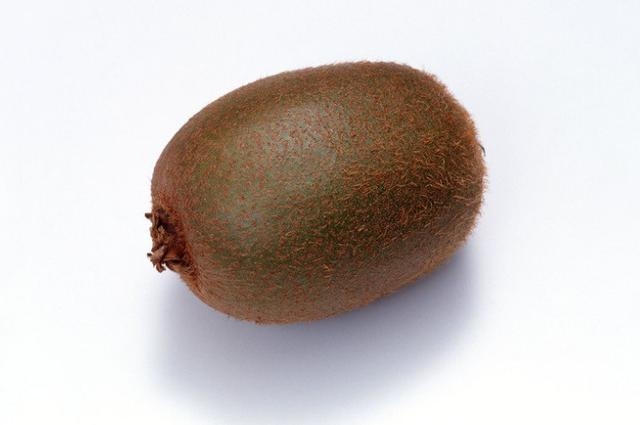kiwi: (151, 61, 485, 324)
